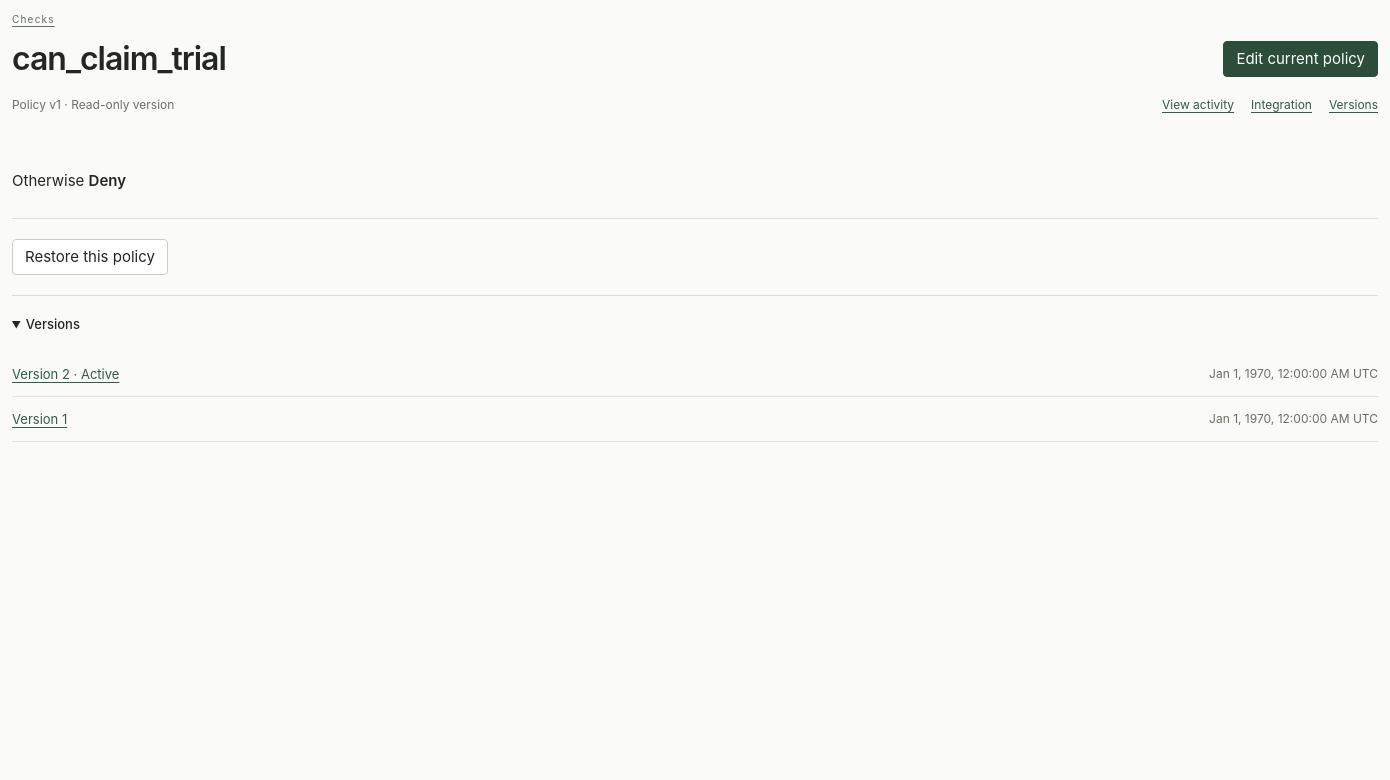
Test: check workflows › a stale restoration remains cancellable and preserves the existing draft
Click the button "Restore this policy" at [90, 257], box 12,239 -> 168,275
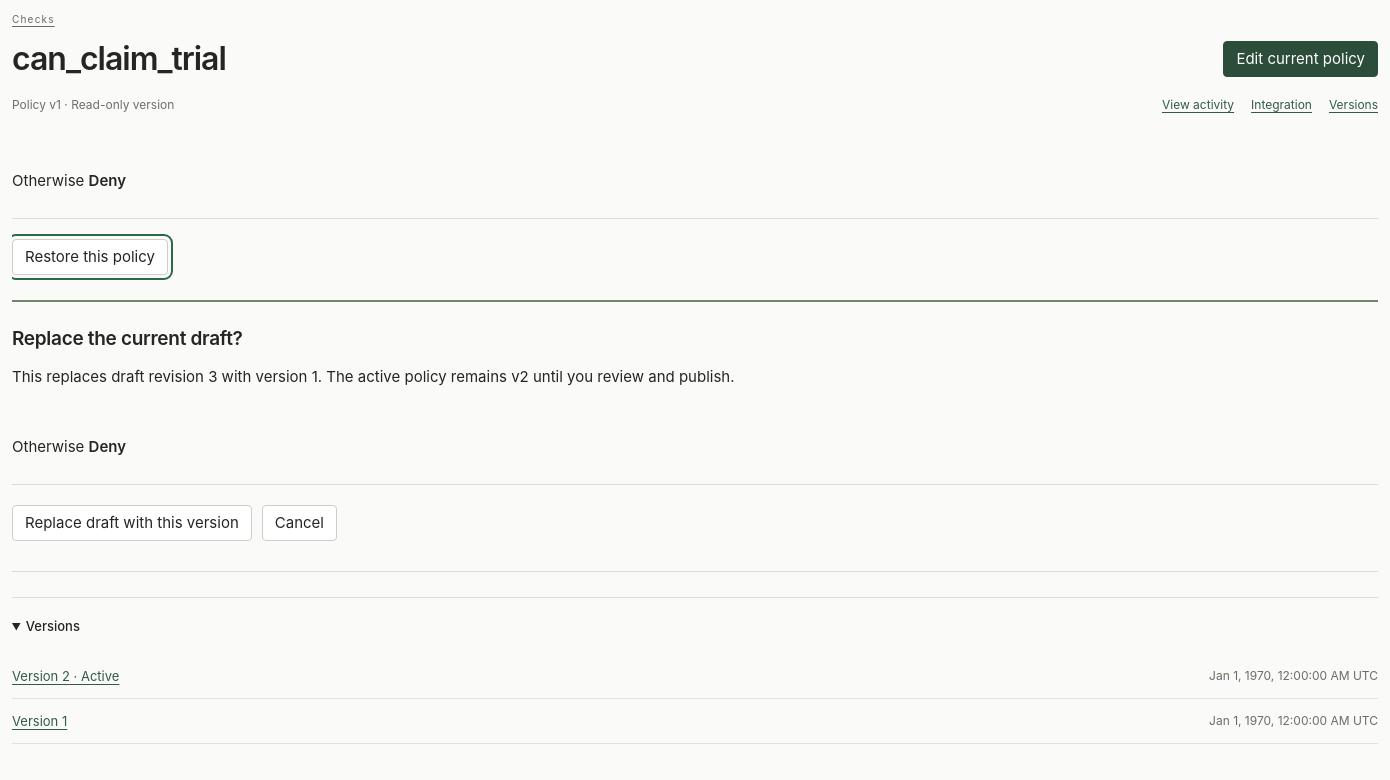
Click the button "Replace draft with this version" at [132, 523], box 12,505 -> 252,541
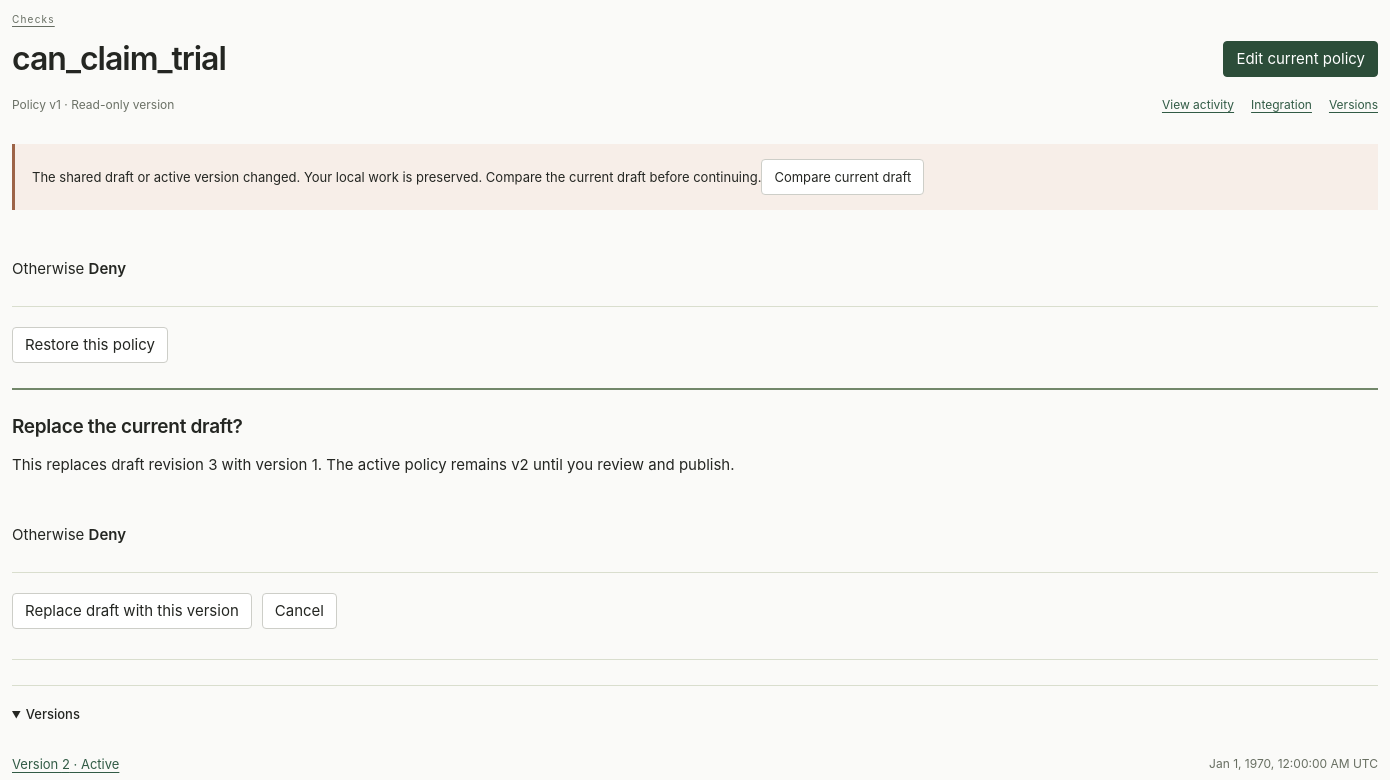
expect the button "Cancel" is enabled: met
expect the text "The shared draft or active version changed" is shown: met, box 32,169 -> 761,185
Click the button "Cancel" at [299, 611], box 262,593 -> 337,629
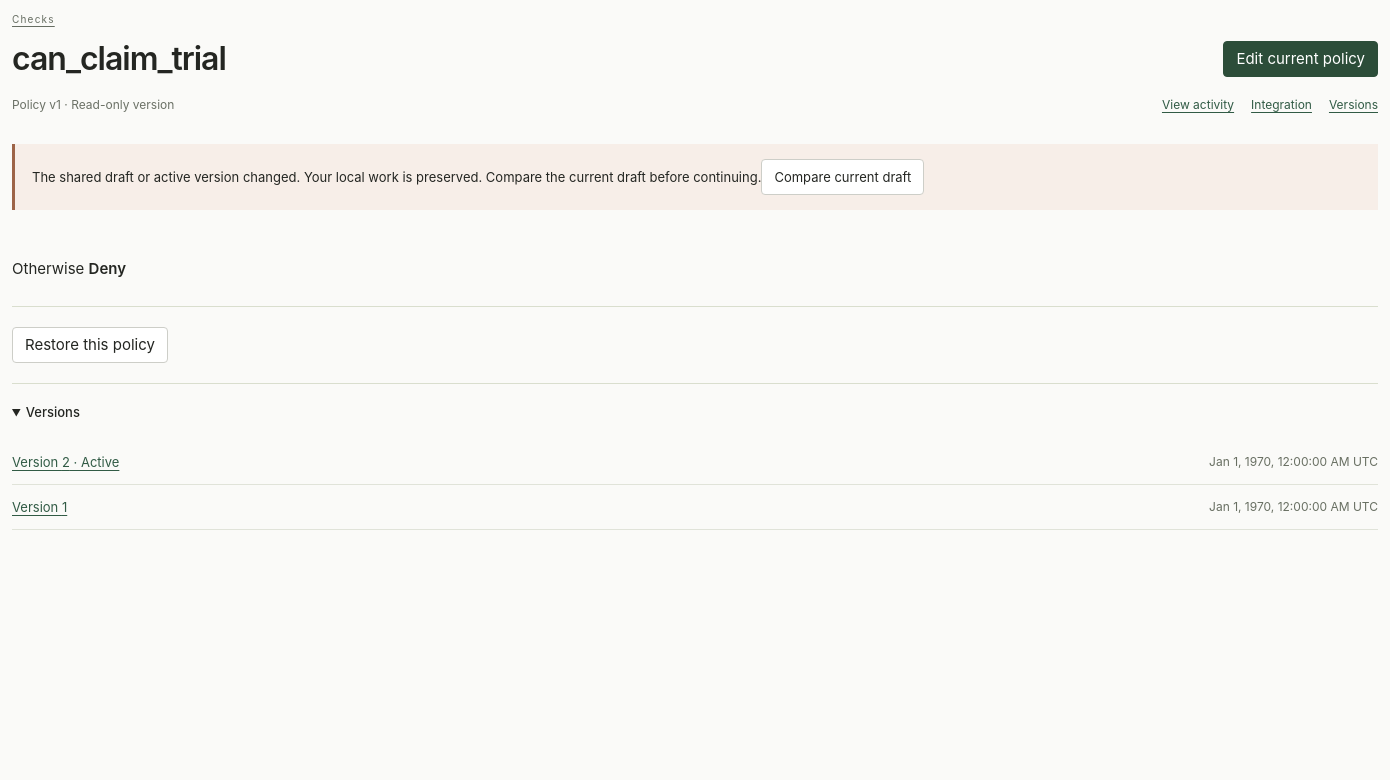
Click the link "Edit current policy" at [1301, 59], box 1223,41 -> 1378,77
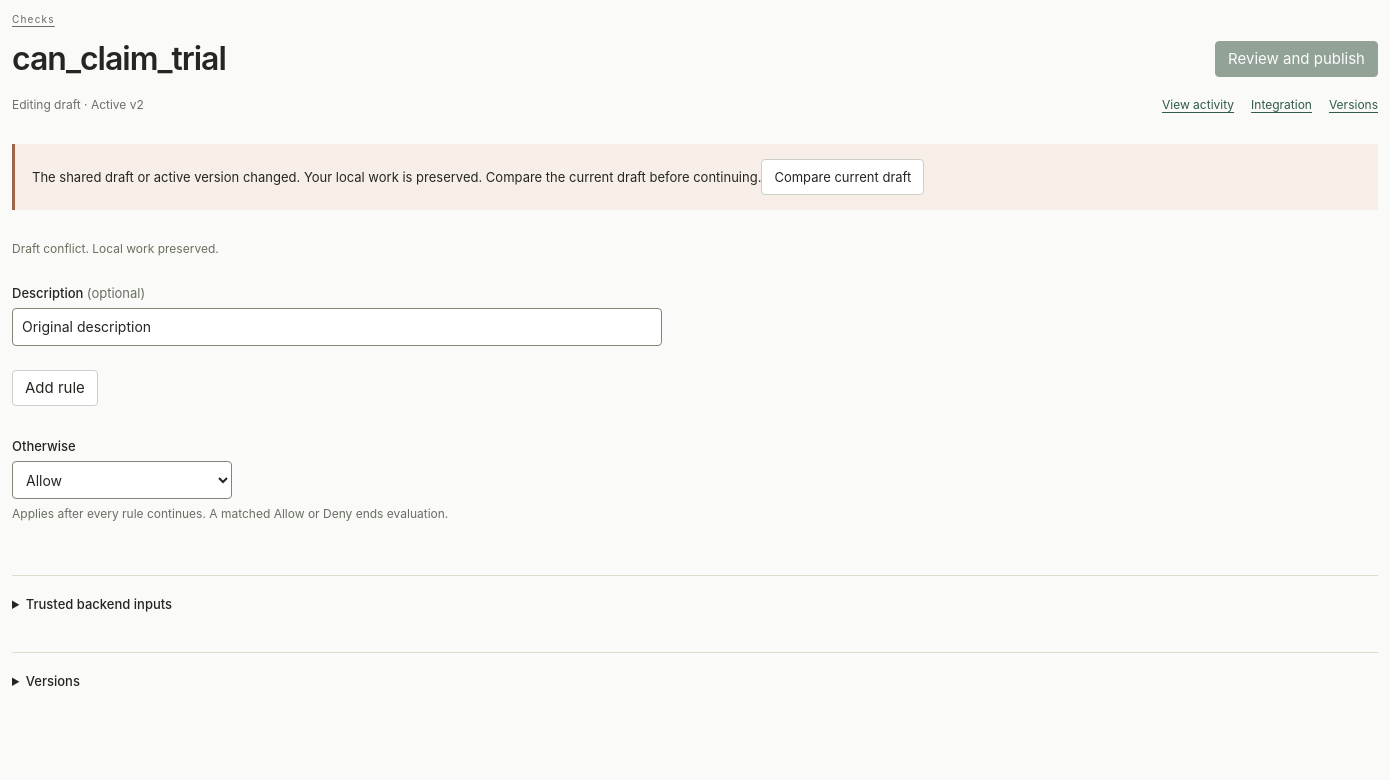
expect the dropdown labelled "Otherwise" shows "Allow": met, box 12,461 -> 232,499
